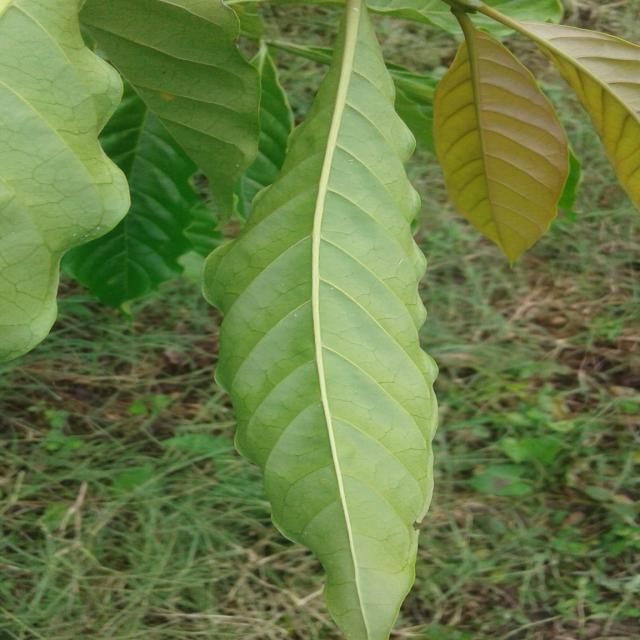Sanas: (202, 0, 439, 640)
